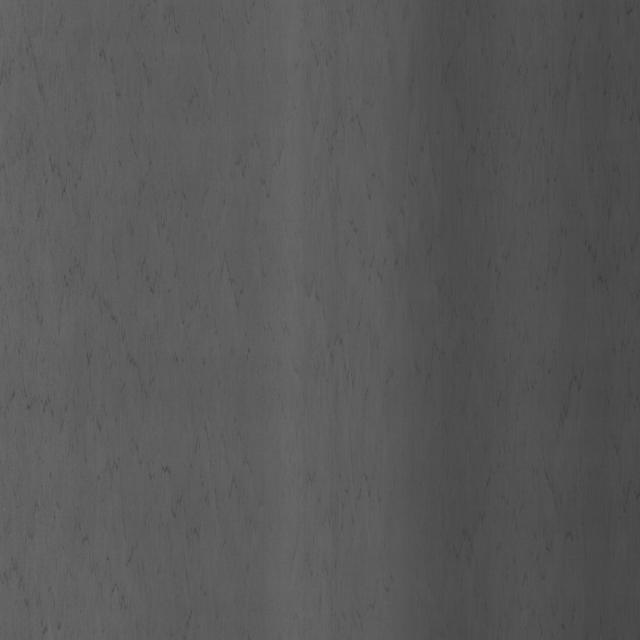inclusion: (21, 80, 228, 436)
